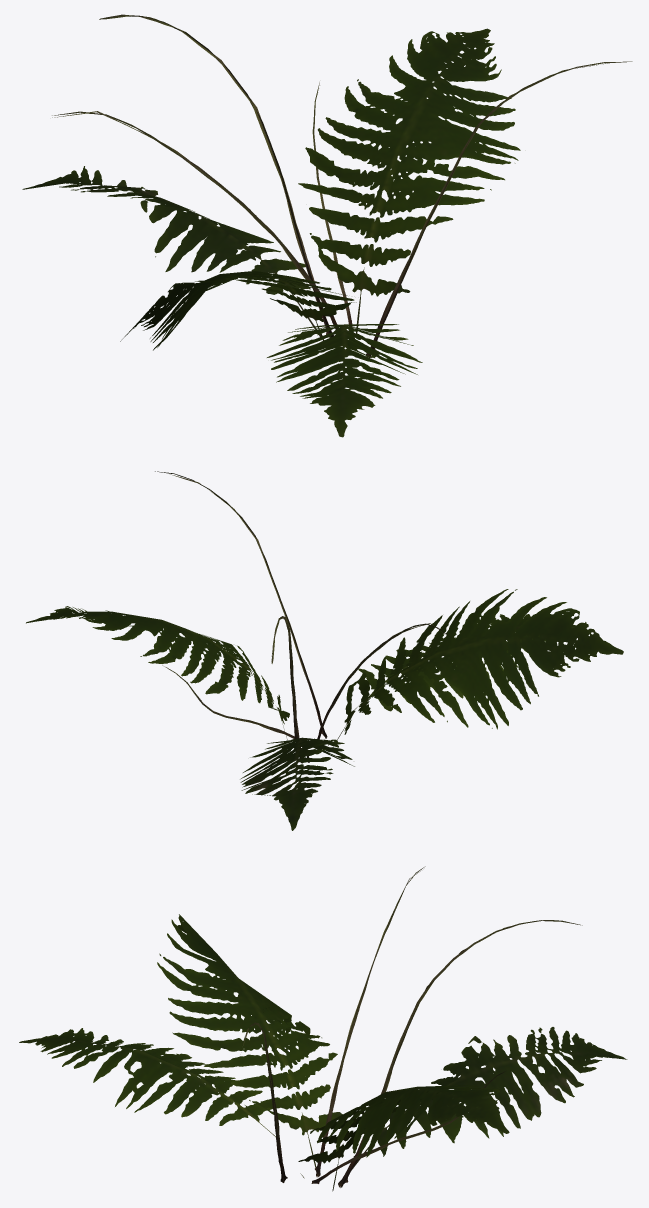
Rendered from egrelti_lod2.glb.
The picture shows the model from 3 angles, top to bottom: view 1: azimuth 30°, elevation 25°; view 2: azimuth 150°, elevation 25°; view 3: azimuth 270°, elevation 25°; orthographic projection. The views are drawn at different scales.
Parts seen in each view (by area): view 1: egrelti_lod2; view 2: egrelti_lod2; view 3: egrelti_lod2.
Boxes of the visible parts, x1,y1,x2,y2 form: egrelti_lod2: [22, 14, 632, 437]; egrelti_lod2: [26, 471, 623, 830]; egrelti_lod2: [19, 866, 627, 1191].
Bounding box in the file's own units: 1.53 × 0.6956 × 1.61.
1 material, 1 textured.
